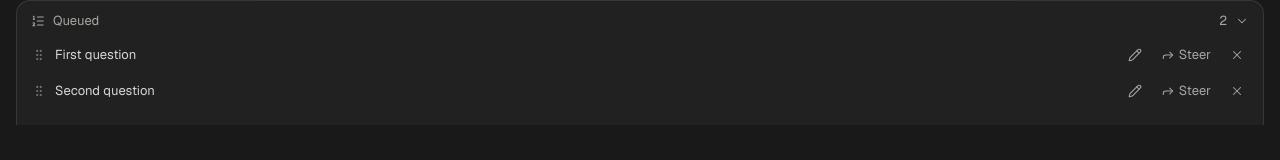
queued messages panel › lists queued messages with a count, and collapses
Click the button "Queued 2". click: x=76, y=21
box: [25, 7, 1255, 35]
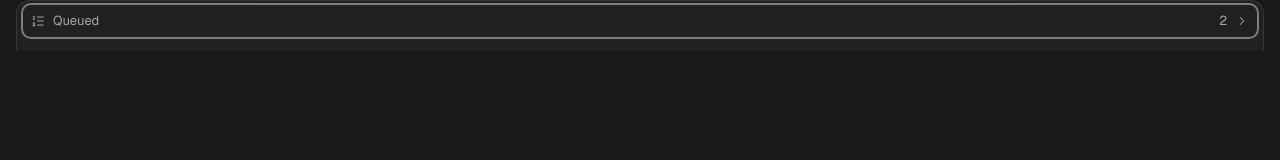
Check: no list items are shown
